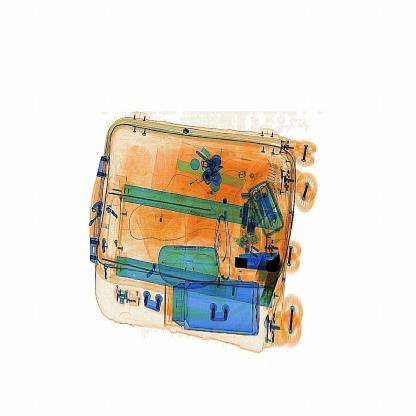knife: (230, 247, 290, 275)
